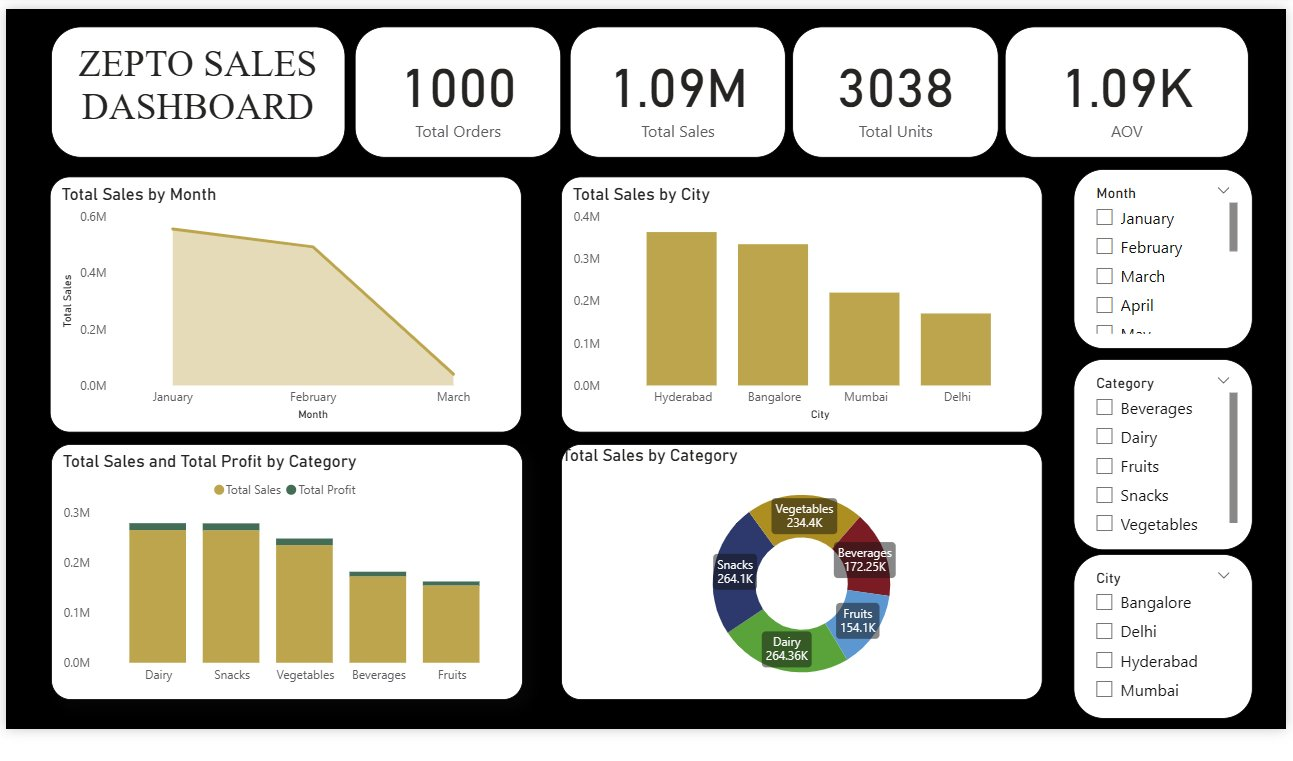

What the dashboard file says about the page in this screenshot:
{"tool":"powerbi","page":{"name":"Page 2","canvas":[1280,720],"ordinal":1},"visuals":[{"type":"textbox","box":[44.6,18,294.2,130.9],"z":0},{"type":"card","fields":{"Values":["fact sales.Total Orders"]},"box":[348.4,18,206.5,130.9],"z":1000},{"type":"card","fields":{"Values":["fact sales.Total Sales"]},"box":[563.4,18,216.1,130.9],"z":2000},{"type":"card","fields":{"Values":["fact sales.Total Units"]},"box":[786.7,18,206.5,130.9],"z":3000},{"type":"card","fields":{"Values":["fact sales.AOV"]},"box":[999.2,18,243.8,130.9],"z":4000},{"type":"slicer","fields":{"Values":["dim product.Category"]},"box":[1067.5,349.4,178.9,190.9],"z":5000},{"type":"slicer","fields":{"Values":["dim calender.Date.Variation.Date Hierarchy.Month"]},"box":[1067.5,159.7,178.9,180.1],"z":6000},{"type":"slicer","fields":{"Values":["dim customer.City"]},"box":[1067.4,544.7,179.1,165.1],"z":7000},{"type":"lineChart","fields":{"Y":["fact sales.Total Sales"],"Category":["dim calender.Date.Variation.Date Hierarchy.Month"]},"box":[43.2,168.1,471.9,255.8],"z":8000},{"type":"clusteredColumnChart","fields":{"Category":["dim customer.City"],"Y":["fact sales.Total Sales"]},"box":[554.7,168.1,481.5,255.8],"z":9000},{"type":"donutChart","fields":{"Category":["dim product.Category"],"Y":["fact sales.Total Sales"]},"box":[554.7,434.7,481.5,255.8],"z":10000},{"type":"columnChart","fields":{"Category":["dim product.Category"],"Y":["fact sales.Total Sales","fact sales.Total Profit"]},"box":[44.4,434.7,471.9,255.8],"z":11000}]}

Visuals, with their boxes in screenshot pixels (x1, y1, x2, y2):
textbox: crop(51, 25, 344, 155)
card - fact sales.Total Orders: crop(354, 25, 560, 155)
card - fact sales.Total Sales: crop(568, 25, 783, 155)
card - fact sales.Total Units: crop(790, 25, 996, 155)
card - fact sales.AOV: crop(1002, 25, 1245, 155)
slicer - dim product.Category: crop(1070, 355, 1248, 545)
slicer - dim calender.Date.Variation.Date Hierarchy.Month: crop(1070, 166, 1248, 345)
slicer - dim customer.City: crop(1070, 549, 1248, 714)
lineChart - fact sales.Total Sales x dim calender.Date.Variation.Date Hierarchy.Month: crop(50, 174, 520, 429)
clusteredColumnChart - dim customer.City x fact sales.Total Sales: crop(559, 174, 1039, 429)
donutChart - dim product.Category x fact sales.Total Sales: crop(559, 440, 1039, 695)
columnChart - dim product.Category x fact sales.Total Sales: crop(51, 440, 521, 695)
